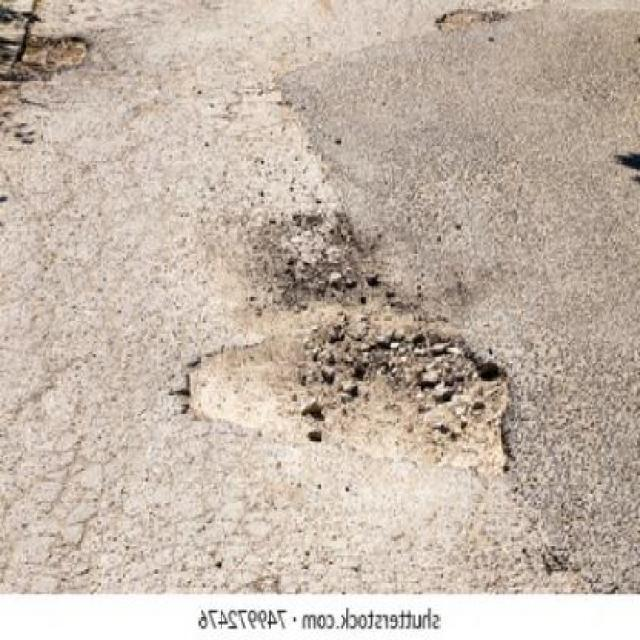Pothole: (167, 209, 523, 491), (15, 33, 90, 83), (433, 8, 505, 33)
